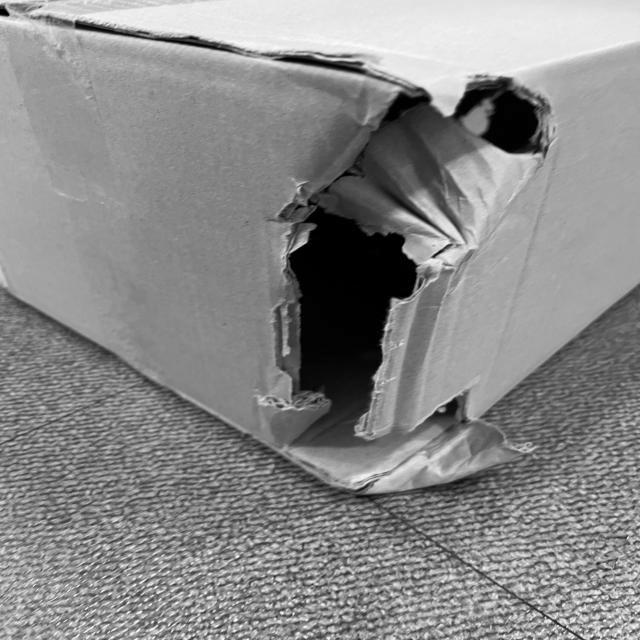hole: (262, 172, 472, 470), (454, 67, 554, 165)
